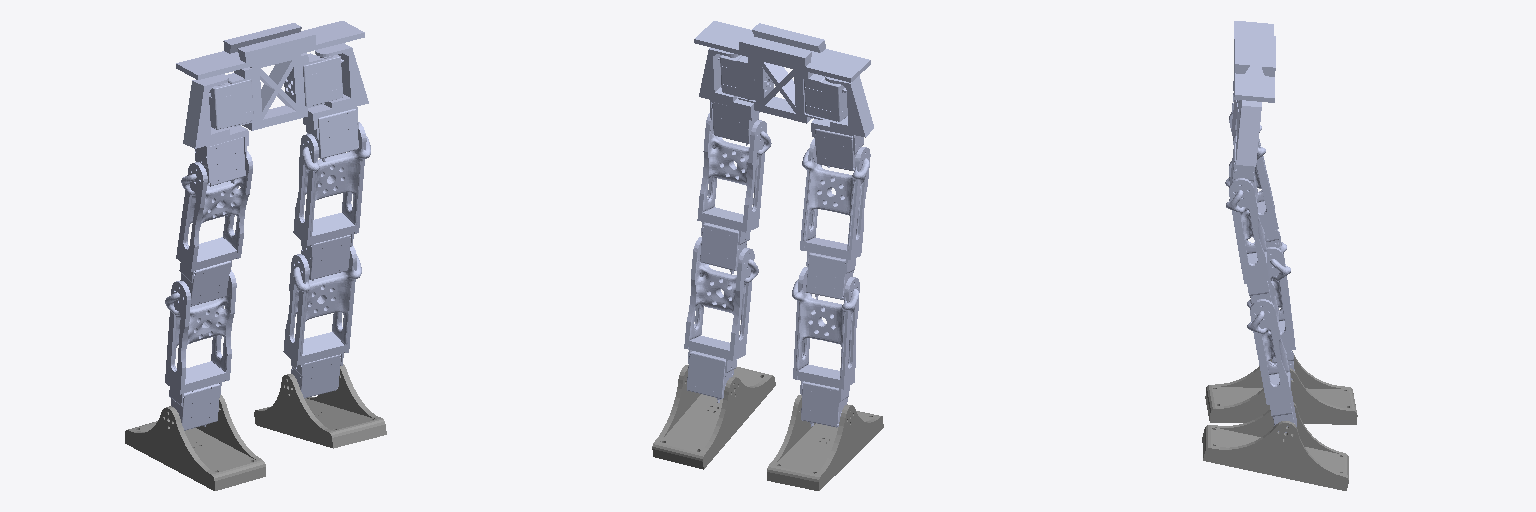
robot.urdf — yaw_up:
<?xml version="1.0" encoding="utf-8"?>
<!-- This URDF was automatically created by SolidWorks to URDF Exporter! Originally created by Stephen Brawner (brawner@gmail.com) 
     Commit Version: 1.6.0-4-g7f85cfe  Build Version: 1.6.7995.38578
     For more information, please see http://wiki.ros.org/sw_urdf_exporter -->
<robot
  name="yaw_up">
  <link
    name="base_link">
    <inertial>
      <origin
        xyz="0.0627679994949339 0.118390187178668 0.120701728364036"
        rpy="0 0 0" />
      <mass
        value="0.171395163597277" />
      <inertia
        ixx="8.1536530058795E-05"
        ixy="-5.60903798702699E-07"
        ixz="3.80437093139824E-07"
        iyy="0.000139361066214885"
        iyz="5.55463363232956E-06"
        izz="0.000195030559061584" />
    </inertial>
    <visual>
      <origin
        xyz="0 0 0"
        rpy="0 0 0" />
      <geometry>
        <mesh
          filename="package://yaw_up/meshes/base_link.STL" />
      </geometry>
      <material
        name="">
        <color
          rgba="0.792156862745098 0.819607843137255 0.933333333333333 1" />
      </material>
    </visual>
    <collision>
      <origin
        xyz="0 0 0"
        rpy="0 0 0" />
      <geometry>
        <mesh
          filename="package://yaw_up/meshes/base_link.STL" />
      </geometry>
    </collision>
  </link>
  <link
    name="ll1">
    <inertial>
      <origin
        xyz="-0.0420347956040815 0.00676838766069543 0.000831994100401356"
        rpy="0 0 0" />
      <mass
        value="0.0567619776679608" />
      <inertia
        ixx="1.14756917470476E-05"
        ixy="1.35960268927184E-06"
        ixz="-2.99195986456226E-12"
        iyy="1.3932671458358E-05"
        iyz="-1.2147473907434E-11"
        izz="2.16624601638867E-05" />
    </inertial>
    <visual>
      <origin
        xyz="0 0 0"
        rpy="0 0 0" />
      <geometry>
        <mesh
          filename="package://yaw_up/meshes/ll1.STL" />
      </geometry>
      <material
        name="">
        <color
          rgba="0.792156862745098 0.819607843137255 0.933333333333333 1" />
      </material>
    </visual>
    <collision>
      <origin
        xyz="0 0 0"
        rpy="0 0 0" />
      <geometry>
        <mesh
          filename="package://yaw_up/meshes/ll1.STL" />
      </geometry>
    </collision>
  </link>
  <joint
    name="cont1"
    type="revolute">
    <origin
      xyz="0.121103017217308 -0.130629139818877 0.0261829037749329"
      rpy="0.471262856650424 1.47186001227126 -1.46893419609193" />
    <parent
      link="base_link" />
    <child
      link="ll1" />
    <axis
      xyz="1 0 0" />
    <limit lower="-0.6" upper="0.6" effort="10" velocity="4" />
  </joint>
  <link
    name="ll2">
    <inertial>
      <origin
        xyz="0.0778980644517551 -0.00188050071023185 -0.000136279288433419"
        rpy="0 0 0" />
      <mass
        value="0.0795021958276127" />
      <inertia
        ixx="2.80100482545646E-05"
        ixy="-5.0750905787742E-07"
        ixz="-6.23846255757303E-07"
        iyy="4.79478664371899E-05"
        iyz="-4.80555281518637E-09"
        izz="6.96783926461646E-05" />
    </inertial>
    <visual>
      <origin
        xyz="0 0 0"
        rpy="0 0 0" />
      <geometry>
        <mesh
          filename="package://yaw_up/meshes/ll2.STL" />
      </geometry>
      <material
        name="">
        <color
          rgba="0.792156862745098 0.819607843137255 0.933333333333333 1" />
      </material>
    </visual>
    <collision>
      <origin
        xyz="0 0 0"
        rpy="0 0 0" />
      <geometry>
        <mesh
          filename="package://yaw_up/meshes/ll2.STL" />
      </geometry>
    </collision>
  </link>
  <joint
    name="cont2"
    type="revolute">
    <origin
      xyz="-0.0158829970163555 0 0.00144799409181526"
      rpy="3.14159265358979 0.342013643737887 0" />
    <parent
      link="ll1" />
    <child
      link="ll2" />
    <axis
      xyz="0 -1 0" />
    <limit lower="-0.3" upper="0.87" effort="10" velocity="4" />
  </joint>
  <link
    name="ll3">
    <inertial>
      <origin
        xyz="0.0778972332409252 -0.00303044202228217 -0.000136254616679127"
        rpy="0 0 0" />
      <mass
        value="0.0795039389987274" />
      <inertia
        ixx="2.80103436690538E-05"
        ixy="-5.07916773490461E-07"
        ixz="-6.2387840351977E-07"
        iyy="4.79482953658807E-05"
        iyz="-4.9837759444308E-09"
        izz="6.96791063857567E-05" />
    </inertial>
    <visual>
      <origin
        xyz="0 0 0"
        rpy="0 0 0" />
      <geometry>
        <mesh
          filename="package://yaw_up/meshes/ll3.STL" />
      </geometry>
      <material
        name="">
        <color
          rgba="0.792156862745098 0.819607843137255 0.933333333333333 1" />
      </material>
    </visual>
    <collision>
      <origin
        xyz="0 0 0"
        rpy="0 0 0" />
      <geometry>
        <mesh
          filename="package://yaw_up/meshes/ll3.STL" />
      </geometry>
    </collision>
  </link>
  <joint
    name="cont3"
    type="revolute">
    <origin
      xyz="0.132403980397028 0 0.000947994091809776"
      rpy="0 0.189269243876191 0" />
    <parent
      link="ll2" />
    <child
      link="ll3" />
    <axis
      xyz="0 -1 0" />
    <limit lower="-1" upper="0" effort="10" velocity="4" />
  </joint>
  <link
    name="ll4">
    <inertial>
      <origin
        xyz="-1.38777878078145E-17 -0.00436556542581049 -0.0362160119976063"
        rpy="0 0 0" />
      <mass
        value="0.144582107490847" />
      <inertia
        ixx="6.19050303018409E-05"
        ixy="8.13151629364128E-20"
        ixz="-1.27054942088145E-20"
        iyy="0.00023855999560411"
        iyz="3.60062576501089E-07"
        izz="0.00027237837889079" />
    </inertial>
    <visual>
      <origin
        xyz="0 0 0"
        rpy="0 0 0" />
      <geometry>
        <mesh
          filename="package://yaw_up/meshes/ll4.STL" />
      </geometry>
      <material
        name="">
        <color
          rgba="0.627450980392157 0.627450980392157 0.627450980392157 1" />
      </material>
    </visual>
    <collision>
      <origin
        xyz="0 0 0"
        rpy="0 0 0" />
      <geometry>
        <mesh
          filename="package://yaw_up/meshes/ll4.STL" />
      </geometry>
    </collision>
  </link>
  <joint
    name="cont4"
    type="revolute">
    <origin
      xyz="0.132403980397011 0 0.000947994091808471"
      rpy="0 -1.28430634760588 0" />
    <parent
      link="ll3" />
    <child
      link="ll4" />
    <axis
      xyz="0 -1 0" />
    <limit lower="-0.2" upper="0.78" effort="5" velocity="3" />
  </joint>
  <link
    name="rf1">
    <inertial>
      <origin
        xyz="-0.0415558839107142 0.00676838766069546 0.000831994100401384"
        rpy="0 0 0" />
      <mass
        value="0.0567619776679608" />
      <inertia
        ixx="1.14756917470476E-05"
        ixy="1.35960268927185E-06"
        ixz="-2.99195985958594E-12"
        iyy="1.3932671458358E-05"
        iyz="-1.21474739209866E-11"
        izz="2.16624601638867E-05" />
    </inertial>
    <visual>
      <origin
        xyz="0 0 0"
        rpy="0 0 0" />
      <geometry>
        <mesh
          filename="package://yaw_up/meshes/rf1.STL" />
      </geometry>
      <material
        name="">
        <color
          rgba="0.792156862745098 0.819607843137255 0.933333333333333 1" />
      </material>
    </visual>
    <collision>
      <origin
        xyz="0 0 0"
        rpy="0 0 0" />
      <geometry>
        <mesh
          filename="package://yaw_up/meshes/rf1.STL" />
      </geometry>
    </collision>
  </link>
  <joint
    name="cont5"
    type="revolute">
    <origin
      xyz="0.00631271314130238 -0.130915886178834 0.0255338596048635"
      rpy="2.87357474133709 1.47186001227126 -1.46893419609193" />
    <parent
      link="base_link" />
    <child
      link="rf1" />
    <axis
      xyz="1 0 0" />
    <limit lower="-0.6" upper="0.6" effort="10" velocity="4"/>
  </joint>
  <link
    name="rf2">
    <inertial>
      <origin
        xyz="0.0778972376943017 -0.00288022926783998 -0.000136427684923654"
        rpy="0 0 0" />
      <mass
        value="0.079503267737485" />
      <inertia
        ixx="2.80103657687164E-05"
        ixy="-5.07468632221227E-07"
        ixz="-6.23919397242849E-07"
        iyy="4.79480059195122E-05"
        iyz="-4.69428718569277E-09"
        izz="6.96787313462689E-05" />
    </inertial>
    <visual>
      <origin
        xyz="0 0 0"
        rpy="0 0 0" />
      <geometry>
        <mesh
          filename="package://yaw_up/meshes/rf2.STL" />
      </geometry>
      <material
        name="">
        <color
          rgba="0.792156862745098 0.819607843137255 0.933333333333333 1" />
      </material>
    </visual>
    <collision>
      <origin
        xyz="0 0 0"
        rpy="0 0 0" />
      <geometry>
        <mesh
          filename="package://yaw_up/meshes/rf2.STL" />
      </geometry>
    </collision>
  </link>
  <joint
    name="cont6"
    type="revolute">
    <origin
      xyz="-0.0154040853229882 0 0.00144799409181529"
      rpy="-3.14159265358979 -0.37603557805053 0" />
    <parent
      link="rf1" />
    <child
      link="rf2" />
    <axis
      xyz="0 1 0" />
    <limit lower="-0.3" upper="0.87" effort="10" velocity="4" />
  </joint>
  <link
    name="rf3">
    <inertial>
      <origin
        xyz="0.0778974295354088 -0.00403019939969158 -0.000136447709444154"
        rpy="0 0 0" />
      <mass
        value="0.0795028878295167" />
      <inertia
        ixx="2.80103856382154E-05"
        ixy="-5.07437893365299E-07"
        ixz="-6.23915394961065E-07"
        iyy="4.7948011764352E-05"
        iyz="-4.68773674677529E-09"
        izz="6.96787414375636E-05" />
    </inertial>
    <visual>
      <origin
        xyz="0 0 0"
        rpy="0 0 0" />
      <geometry>
        <mesh
          filename="package://yaw_up/meshes/rf3.STL" />
      </geometry>
      <material
        name="">
        <color
          rgba="0.792156862745098 0.819607843137255 0.933333333333333 1" />
      </material>
    </visual>
    <collision>
      <origin
        xyz="0 0 0"
        rpy="0 0 0" />
      <geometry>
        <mesh
          filename="package://yaw_up/meshes/rf3.STL" />
      </geometry>
    </collision>
  </link>
  <joint
    name="cont7"
    type="revolute">
    <origin
      xyz="0.13240398039702 0 0.00094799409181541"
      rpy="0 -0.152487783275856 0" />
    <parent
      link="rf2" />
    <child
      link="rf3" />
    <axis
      xyz="0 1 0" />
    <limit lower="-1" upper="0" effort="10" velocity="4" />
  </joint>
  <link
    name="rf4">
    <inertial>
      <origin
        xyz="-3.67761376907083E-16 -0.00536556459134571 -0.0362160119976065"
        rpy="0 0 0" />
      <mass
        value="0.144582107490847" />
      <inertia
        ixx="6.19050303018409E-05"
        ixy="1.9312351197398E-19"
        ixz="2.46063071177374E-19"
        iyy="0.00023855999560411"
        iyz="3.60062576501162E-07"
        izz="0.00027237837889079" />
    </inertial>
    <visual>
      <origin
        xyz="0 0 0"
        rpy="0 0 0" />
      <geometry>
        <mesh
          filename="package://yaw_up/meshes/rf4.STL" />
      </geometry>
      <material
        name="">
        <color
          rgba="0.627450980392157 0.627450980392157 0.627450980392157 1" />
      </material>
    </visual>
    <collision>
      <origin
        xyz="0 0 0"
        rpy="0 0 0" />
      <geometry>
        <mesh
          filename="package://yaw_up/meshes/rf4.STL" />
      </geometry>
    </collision>
  </link>
  <joint
    name="cont8"
    type="revolute">
    <origin
      xyz="0.132403980397021 0 0.000947994091815341"
      rpy="-3.14159265358978 -1.39390510815192 3.14159265358978" />
    <parent
      link="rf3" />
    <child
      link="rf4" />
    <axis
      xyz="0 1 0" />
    <limit lower="-0.2" upper="0.78" effort="5" velocity="3" />
  </joint>
</robot>

--- Render facts (derived) ---
3 views of the same robot in one strip: view 1: azimuth 30°, elevation 25°; view 2: azimuth 150°, elevation 25°; view 3: azimuth 270°, elevation 25° (orthographic).
Model yaw_up with 9 links and 8 joints (8 revolute), rooted at base_link, posed all joints at 0.
Links seen in each view (by area): view 1: base_link, ll2, rf3, ll3, rf2, rf4, ll4, rf1, ll1; view 2: base_link, rf3, ll3, rf2, ll2, ll4, rf4, rf1, ll1; view 3: ll4, rf4, ll3, ll2, base_link, ll1, rf3, rf2.
Link boxes in pixels (x1,y1,x2,y2): base_link: (176, 21, 364, 130); ll2: (293, 122, 370, 280); rf3: (165, 270, 236, 430); ll3: (283, 246, 361, 398); rf2: (176, 151, 252, 306); rf4: (125, 395, 265, 490); ll4: (254, 364, 386, 448); rf1: (183, 74, 248, 186); ll1: (303, 43, 368, 161); base_link: (694, 21, 870, 123); rf3: (792, 267, 859, 427); ll3: (684, 237, 758, 402); rf2: (800, 138, 870, 299); ll2: (697, 113, 771, 274); ll4: (652, 365, 775, 469); rf4: (767, 395, 883, 490); rf1: (811, 75, 873, 170); ll1: (699, 47, 759, 145); ll4: (1202, 403, 1348, 490); rf4: (1205, 355, 1357, 424); ll3: (1247, 281, 1296, 432); ll2: (1225, 161, 1273, 304); base_link: (1234, 21, 1275, 141); ll1: (1230, 100, 1261, 183); rf3: (1267, 229, 1295, 379); rf2: (1229, 112, 1280, 249).
Bounding box of the posed robot: 0.1946 × 0.1531 × 0.4396 m (x, y, z).
Meshes: 9 distinct files referenced, 9 mesh visuals loaded (9 binary STL).
